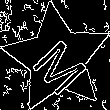M_NE: (23, 25, 91, 92)
